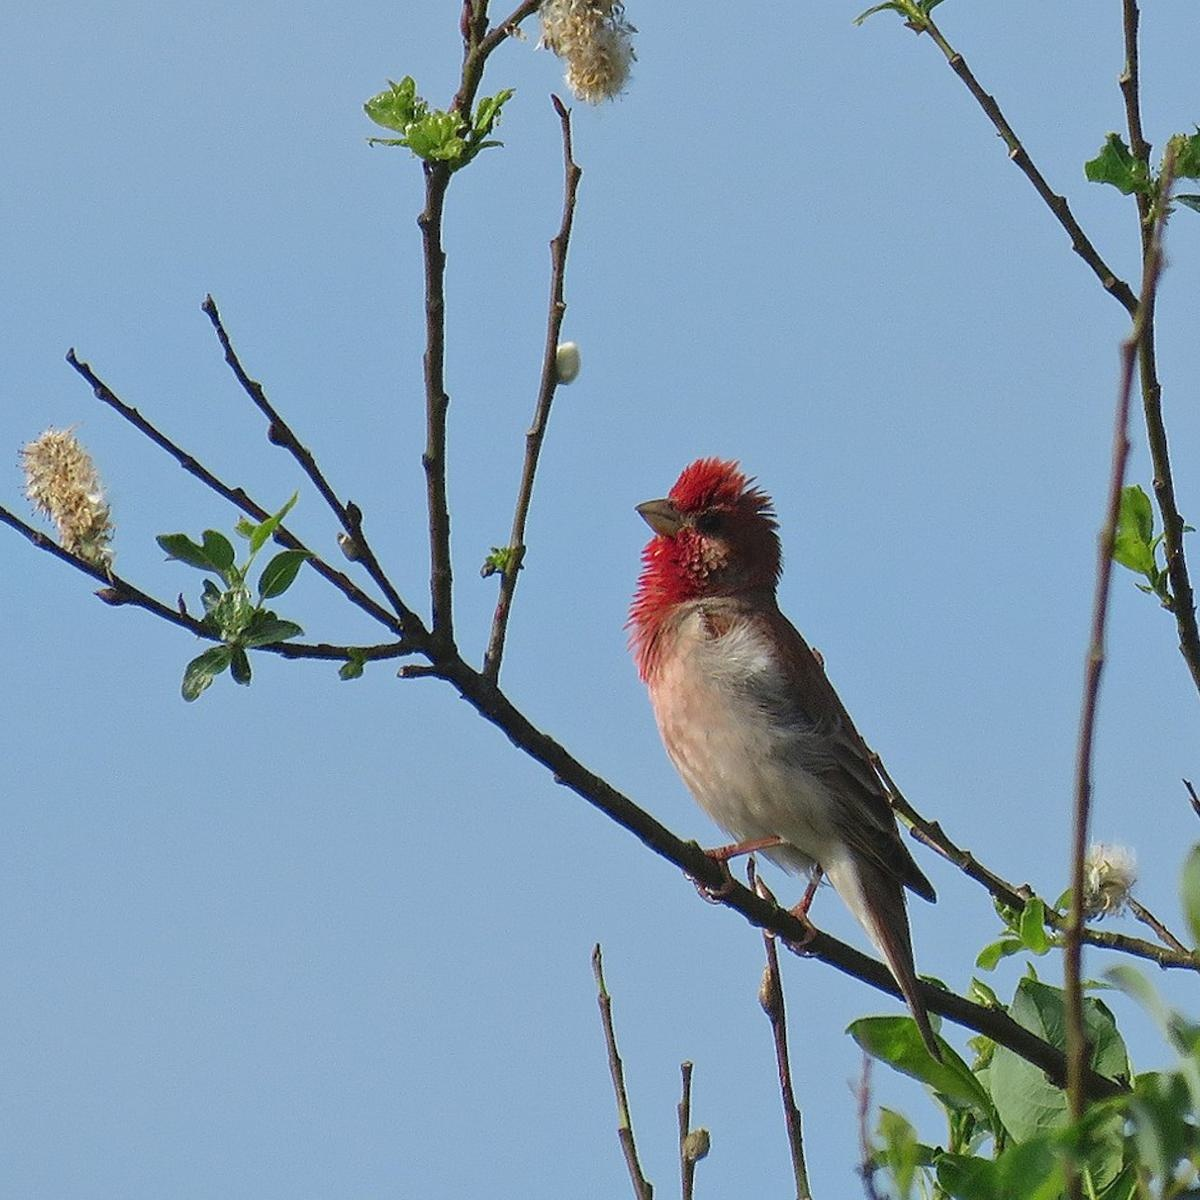rosefinch: (591, 437, 930, 988)
